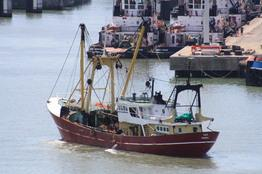otherboat: (45, 19, 221, 158)
